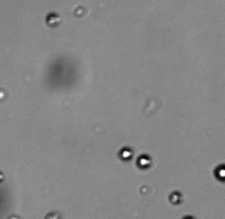Dead Cell: (46, 12, 61, 26), (169, 190, 183, 204)
Living Cell: (137, 154, 152, 168), (118, 147, 131, 160)
